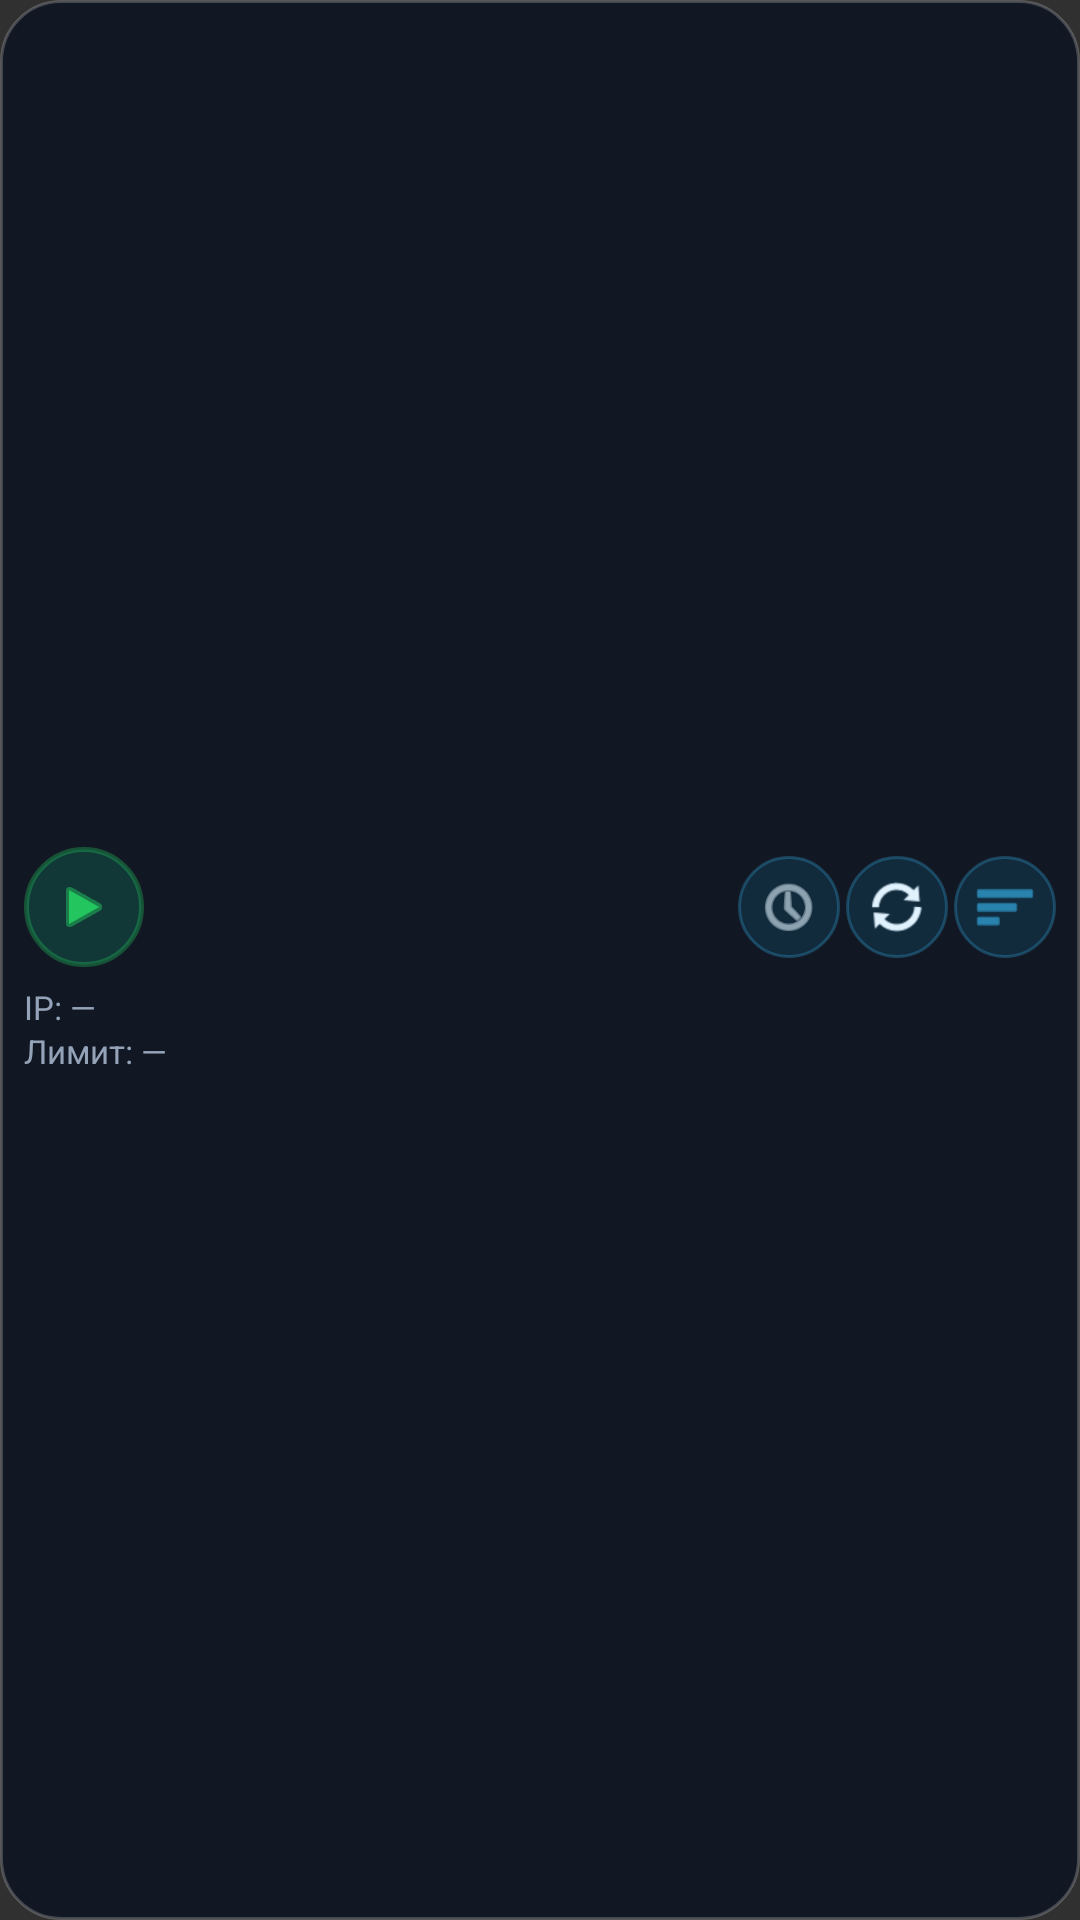

Where to tap for icons on this 1080 x 1920 app screen, as [x,y]:
play: [84,907]
popup sync: [897,907]
recent history: [789,907]
sort by size: [1005,907]
